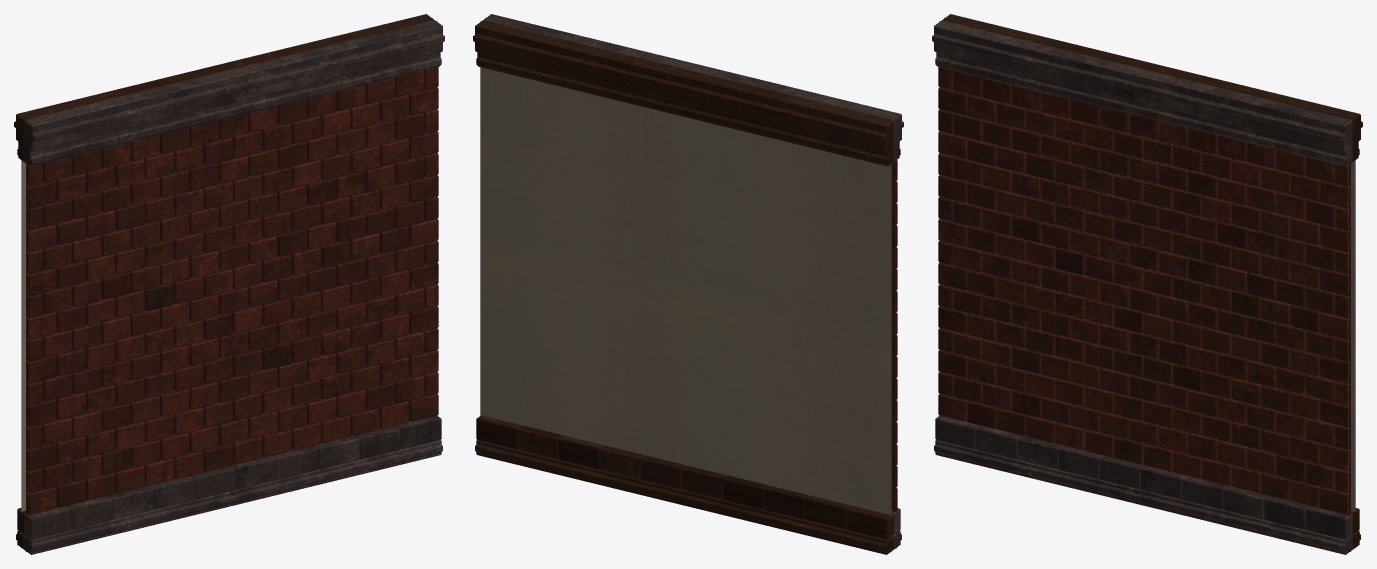
The model's file is SK3 WALL 2.fbx.
3 views of the same model, side by side, from view 1: azimuth 30°, elevation 25°; view 2: azimuth 150°, elevation 25°; view 3: azimuth 330°, elevation 25° (orthographic).
Visible parts, largest first — view 1: SK3 WALL 2; view 2: SK3 WALL 2; view 3: SK3 WALL 2.
Boxes of the visible parts, x1,y1,x2,y2 form: SK3 WALL 2: (14, 14, 444, 554); SK3 WALL 2: (473, 14, 903, 554); SK3 WALL 2: (932, 14, 1362, 554).
Bounding box in the file's own units: 400 × 400 × 34.27.
